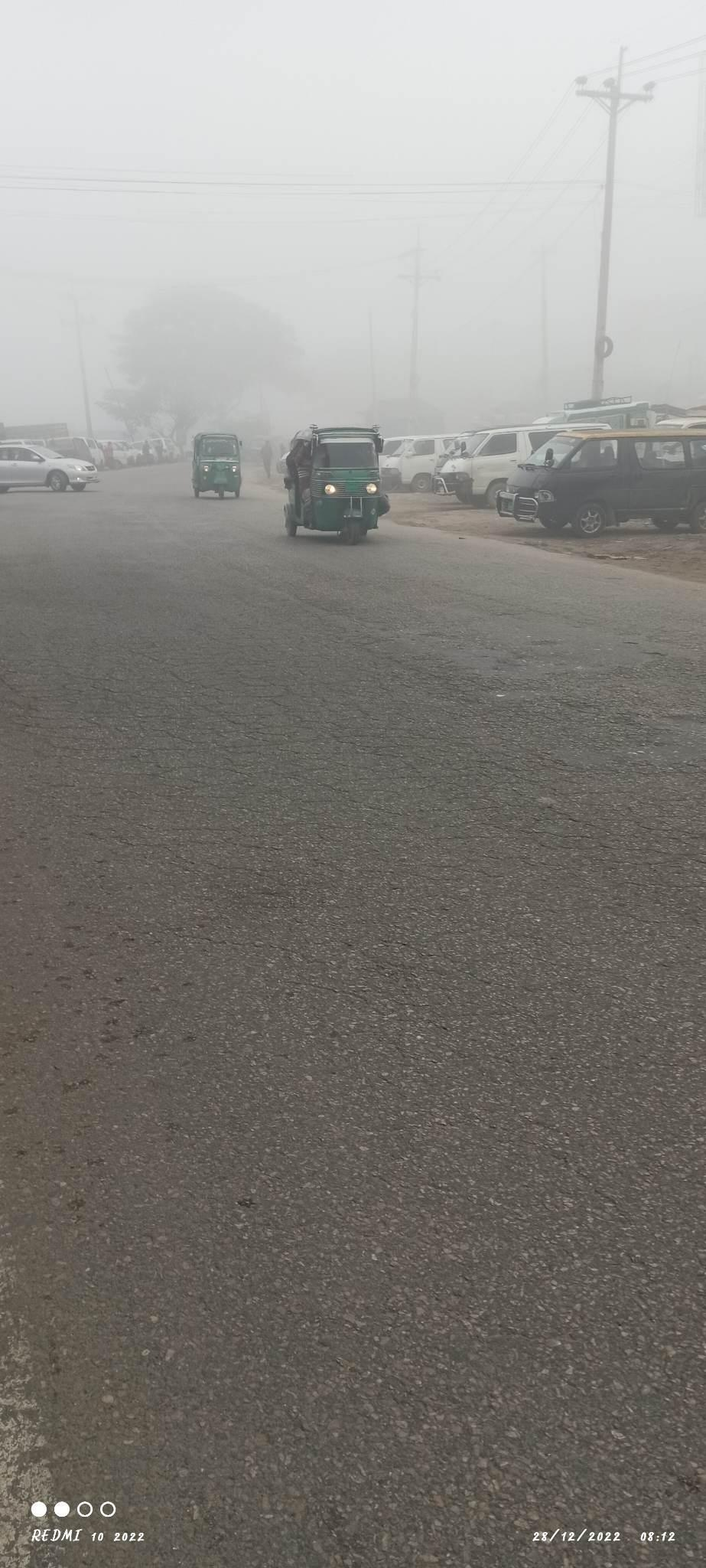Car: (498, 416, 706, 537), (439, 403, 604, 508), (3, 427, 104, 518)
